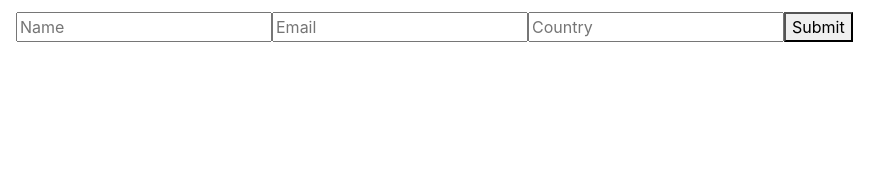
Test: SubscribeLibForm component › should render an error when email is empty
Step 1. Type "Andres" into the field with placeholder "Name" → (144, 27), box [16,12,272,42]
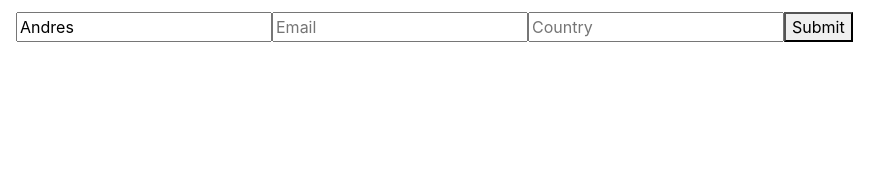
Step 2. Click the button "Submit" → (818, 27), box [784,12,853,42]
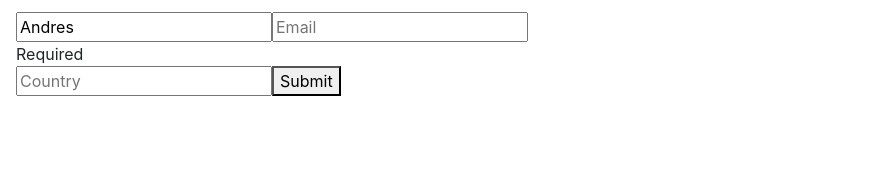
Expected: the text "Required" is shown, [16,44,83,64]
